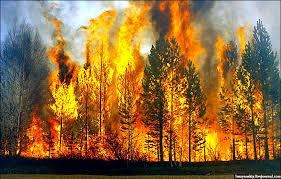fire: (17, 2, 227, 166)
